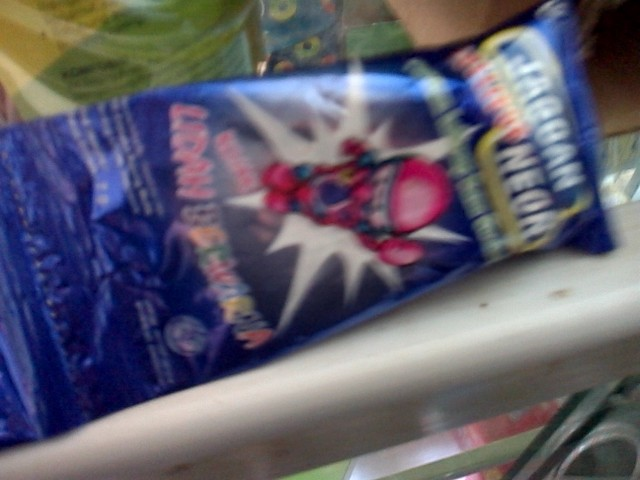jagoan neon: (11, 6, 616, 424)
